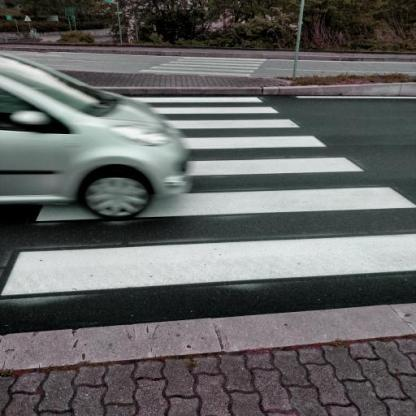crosswalk: (0, 186, 416, 306), (130, 95, 287, 116)
